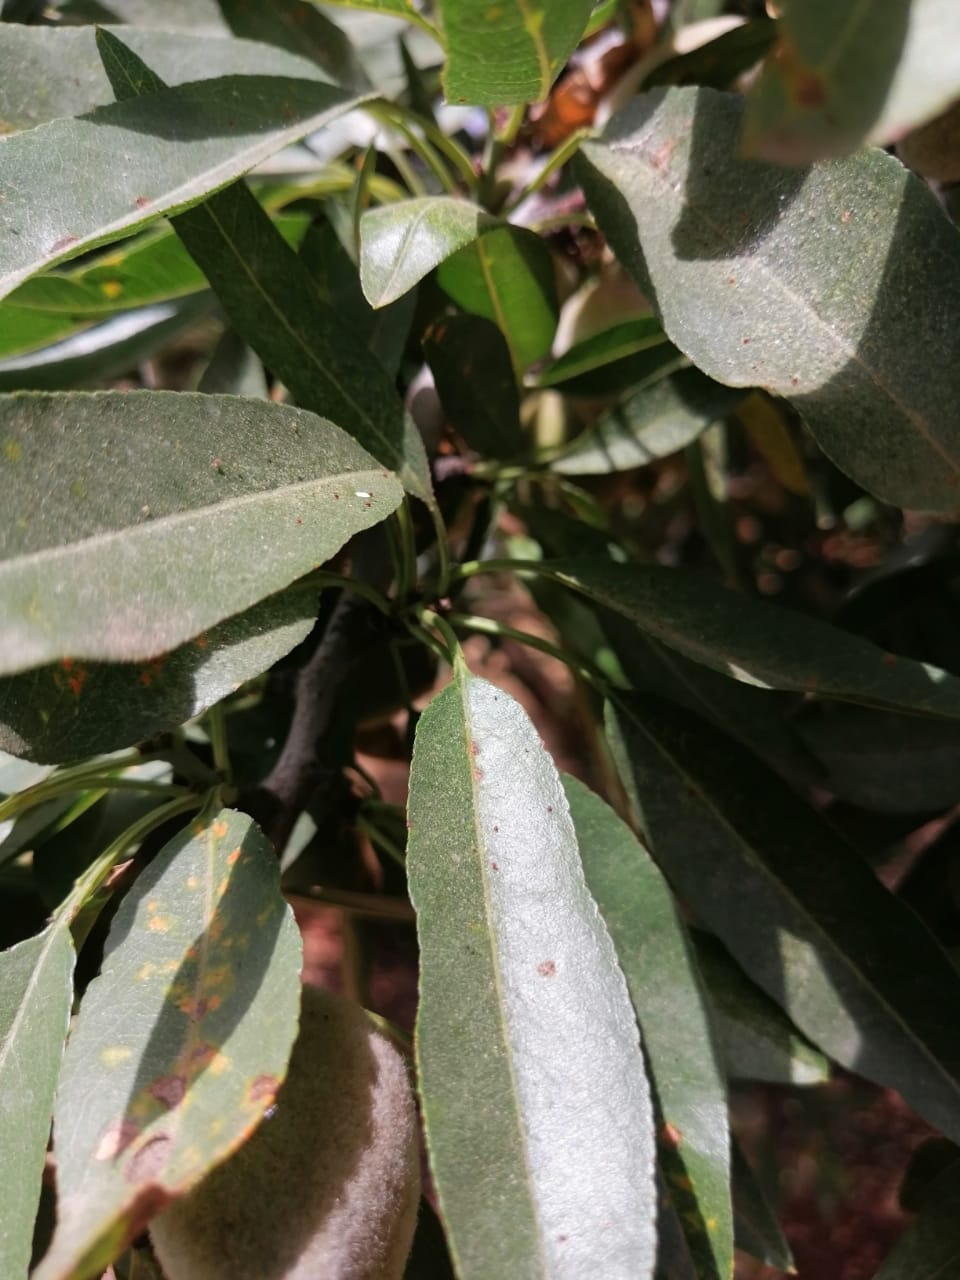faux tigre: (564, 306, 960, 549), (307, 546, 434, 1052)
